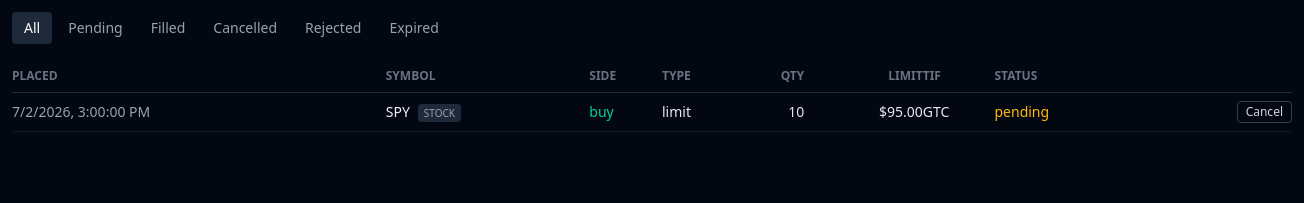
Test: surfaces cancel failures
Expected: the link "SPY" is shown, [386, 102, 410, 121]
Click the button "Cancel": (1264, 112) [1237, 101, 1292, 123]
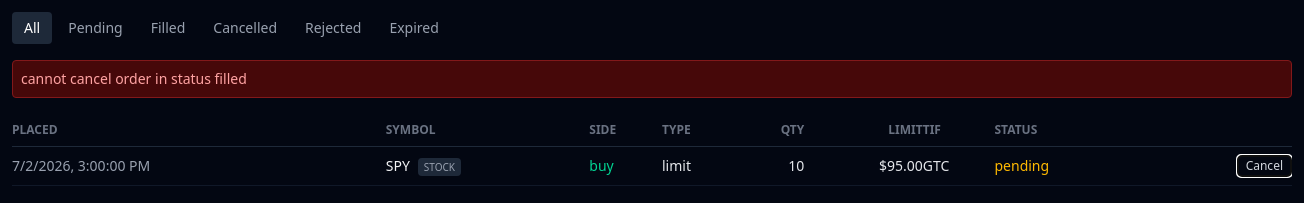
Expected: the text "cannot cancel order in status filled" is shown, [12, 60, 1292, 98]
